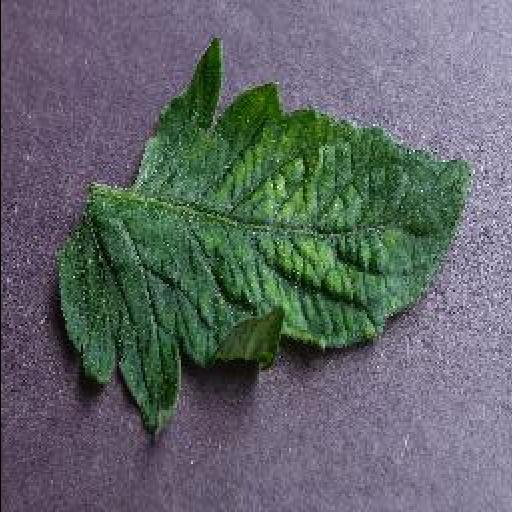disease_tomato: (54, 38, 474, 444)
